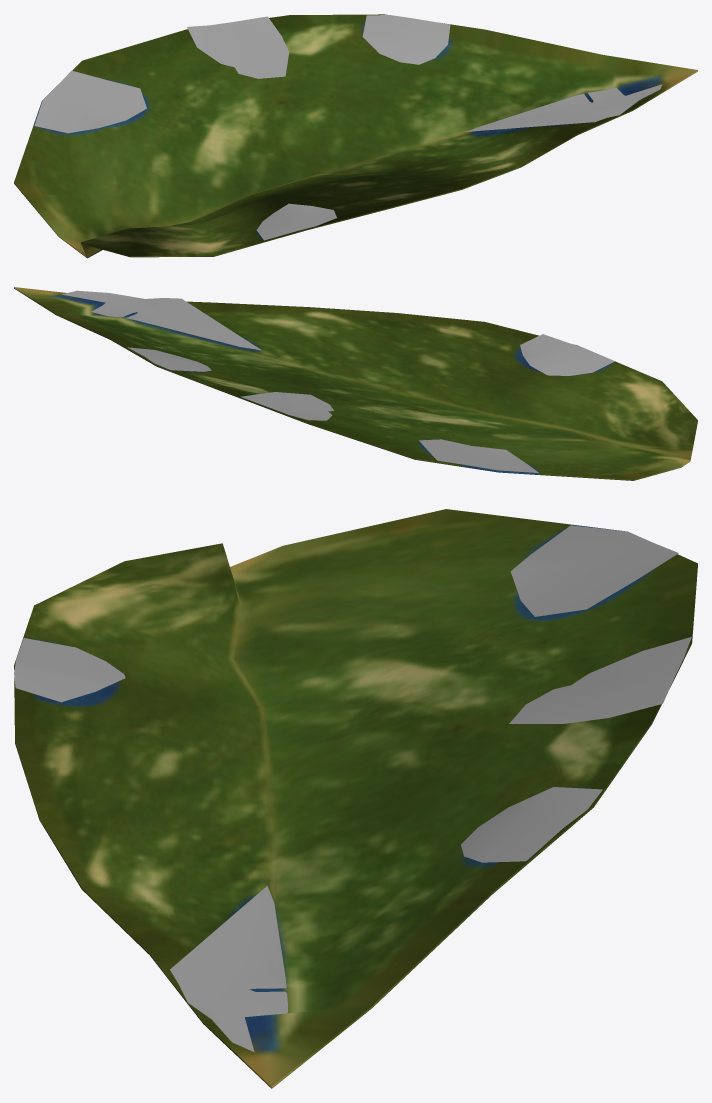
The model's file is blue_leaf2.fbx.
3 renders of one model, top to bottom at view 1: azimuth 30°, elevation 25°; view 2: azimuth 150°, elevation 25°; view 3: azimuth 270°, elevation 25°, orthographic. The views are drawn at different scales.
Parts seen in each view (by area): view 1: leaf2, pPlane1, pPlane5, pPlane2, pPlane4, pPlane3; view 2: leaf2, pPlane2, pPlane3, pPlane1, pPlane5, pPlane4; view 3: leaf2, pPlane2, pPlane1, pPlane5, pPlane4, pPlane3.
Part boxes in pixels (bbox=[...]): leaf2: bbox=[14, 14, 697, 258]; pPlane1: bbox=[34, 70, 146, 133]; pPlane5: bbox=[187, 16, 289, 78]; pPlane2: bbox=[465, 84, 662, 131]; pPlane4: bbox=[362, 15, 450, 64]; pPlane3: bbox=[256, 203, 336, 240]; leaf2: bbox=[14, 287, 697, 480]; pPlane2: bbox=[61, 290, 261, 350]; pPlane3: bbox=[520, 334, 614, 375]; pPlane1: bbox=[419, 439, 538, 472]; pPlane5: bbox=[240, 392, 333, 420]; pPlane4: bbox=[127, 347, 211, 371]; leaf2: bbox=[14, 509, 697, 1088]; pPlane2: bbox=[170, 886, 287, 1052]; pPlane1: bbox=[510, 525, 678, 616]; pPlane5: bbox=[509, 637, 691, 723]; pPlane4: bbox=[461, 787, 602, 862]; pPlane3: bbox=[14, 638, 125, 702].
Bounding box in the file's own units: 17.25 × 2.05 × 8.85.
Materials: 2 (1 with a texture image).
